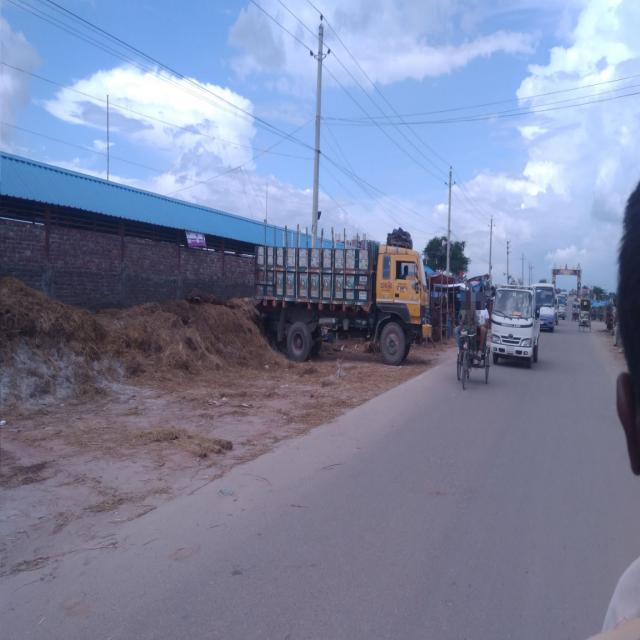bus: (536, 276, 558, 336)
pickup-van: (489, 276, 540, 376)
truck: (252, 216, 438, 384)
